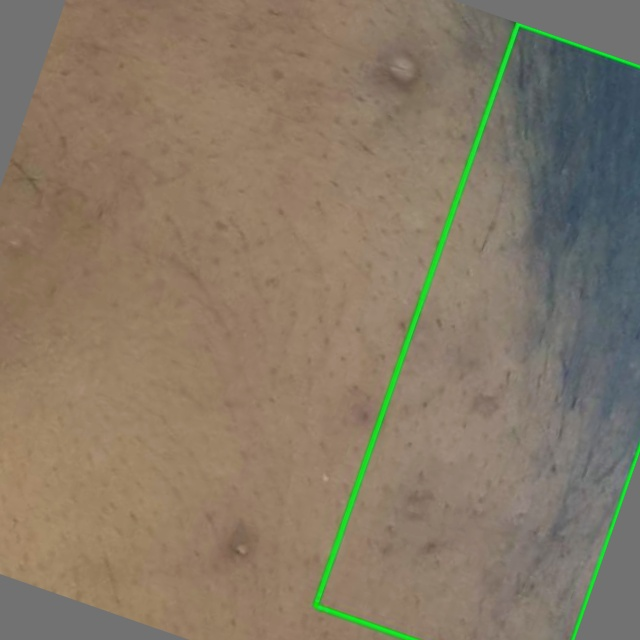Seborrheic Dermatitis: (315, 23, 639, 639)
